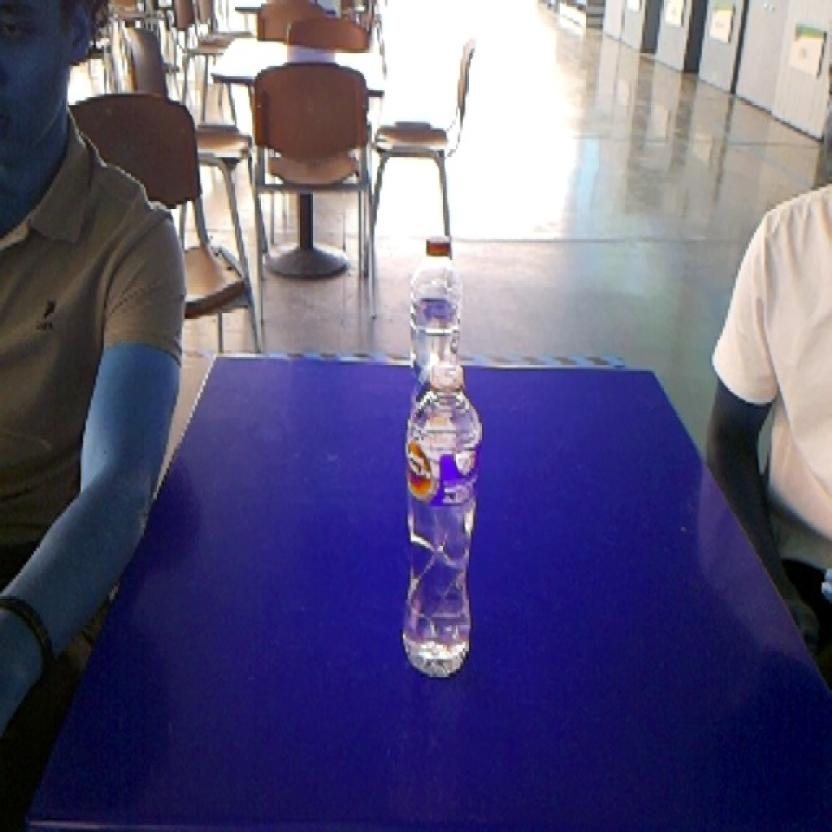no_cap: (394, 346, 487, 685)
no_label: (398, 226, 478, 353)
